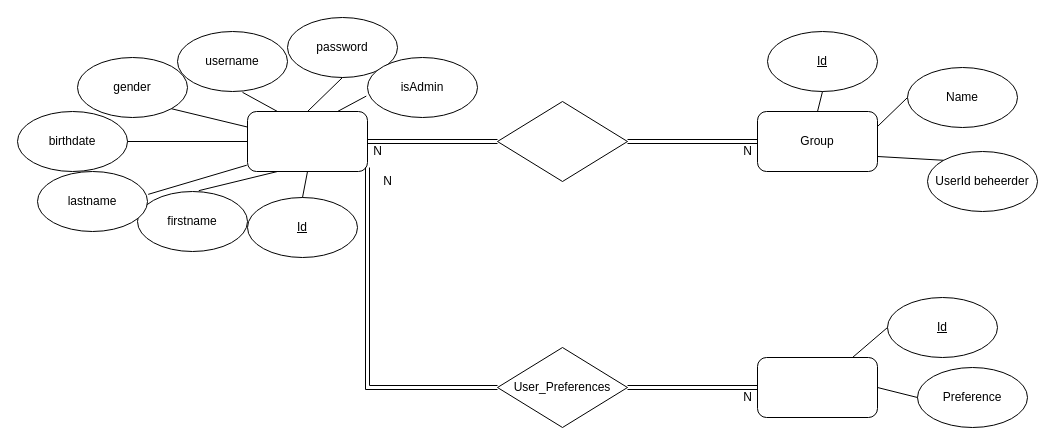
Image size: 1055x445. Some labels were removed from this diagram. Each missing label, with the box of its shape:
Preferences: (756, 356, 878, 418)
User: (246, 110, 368, 172)
User-Group: (496, 100, 628, 182)
